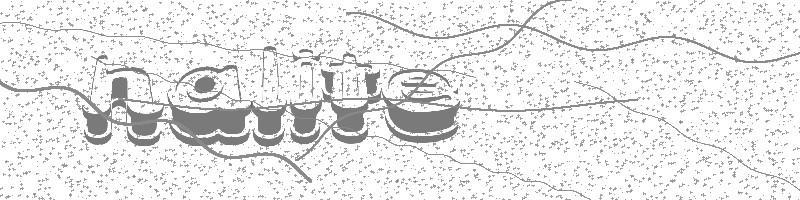a: (167, 56, 251, 148)
e: (382, 66, 465, 145)
h: (77, 50, 168, 151)
i: (290, 43, 325, 147)
l: (252, 41, 289, 145)
t: (322, 51, 383, 144)
